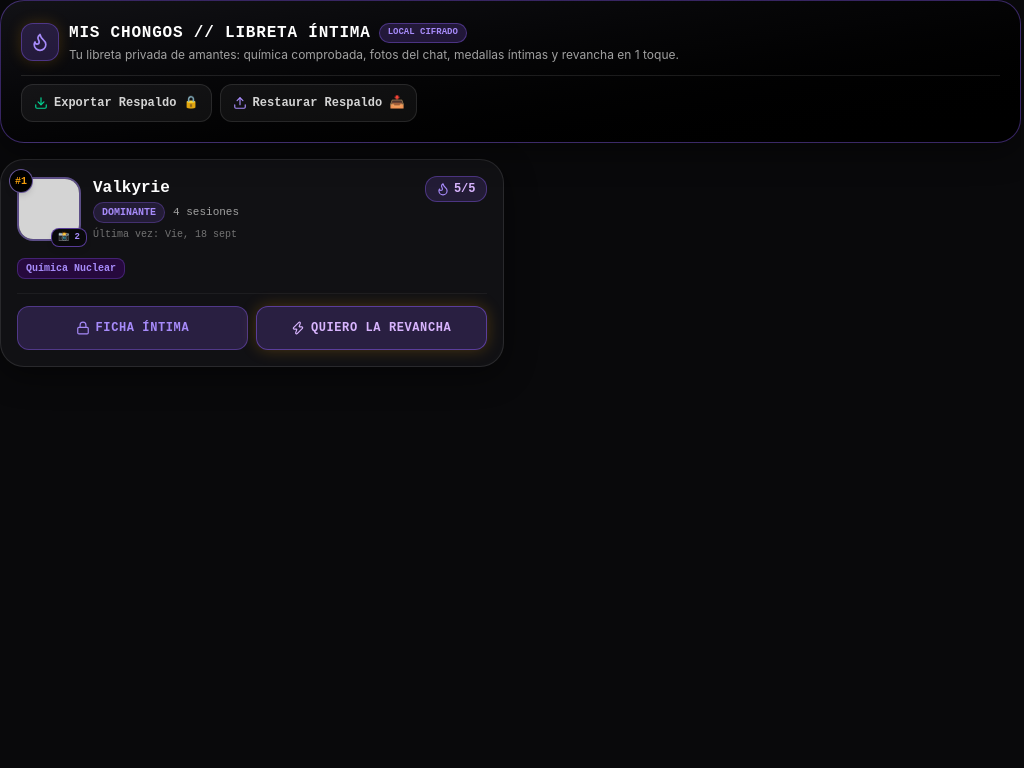
Test: DiaryLoversVaultSection — Respaldo Cifrado UI › abre el modal de exportación al presionar 'Exportar Respaldo 🔒'
Click the button with test id "diary-export-backup-btn": (116,103) [21,84,212,122]
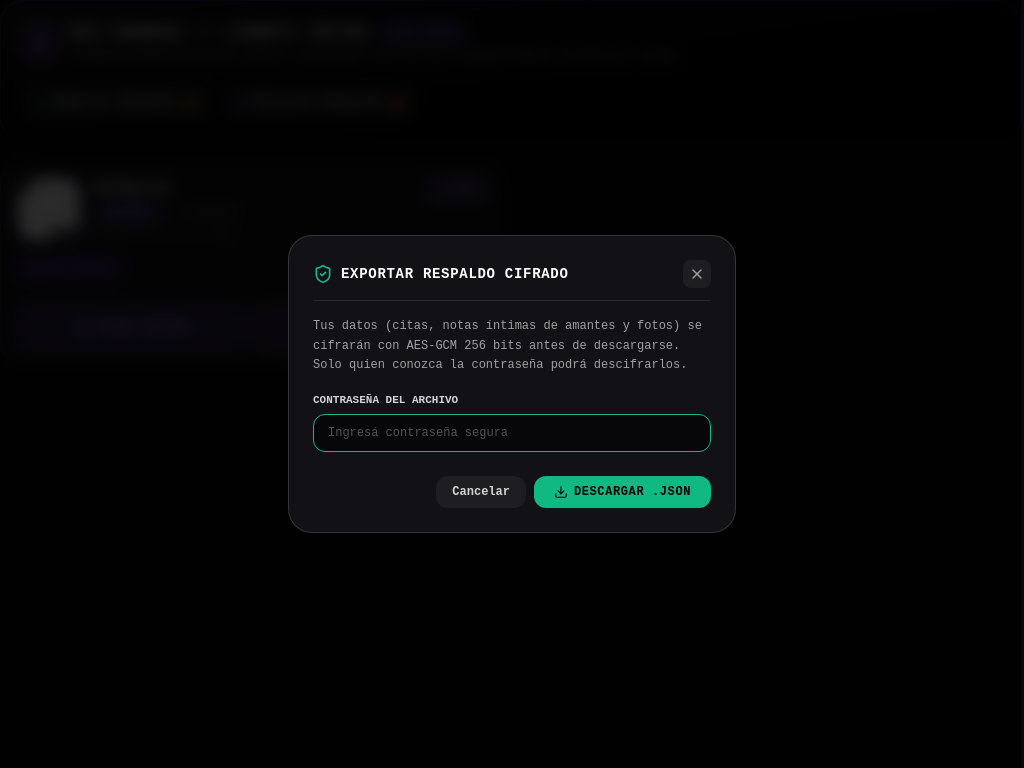
Result: the heading "Exportar Respaldo Cifrado" is shown at [341,264,568,284]
Result: the password field with test id "diary-backup-password-input" is shown at [313,414,711,452]
Result: the button with test id "diary-backup-submit-btn" is shown at [534,476,711,508]
